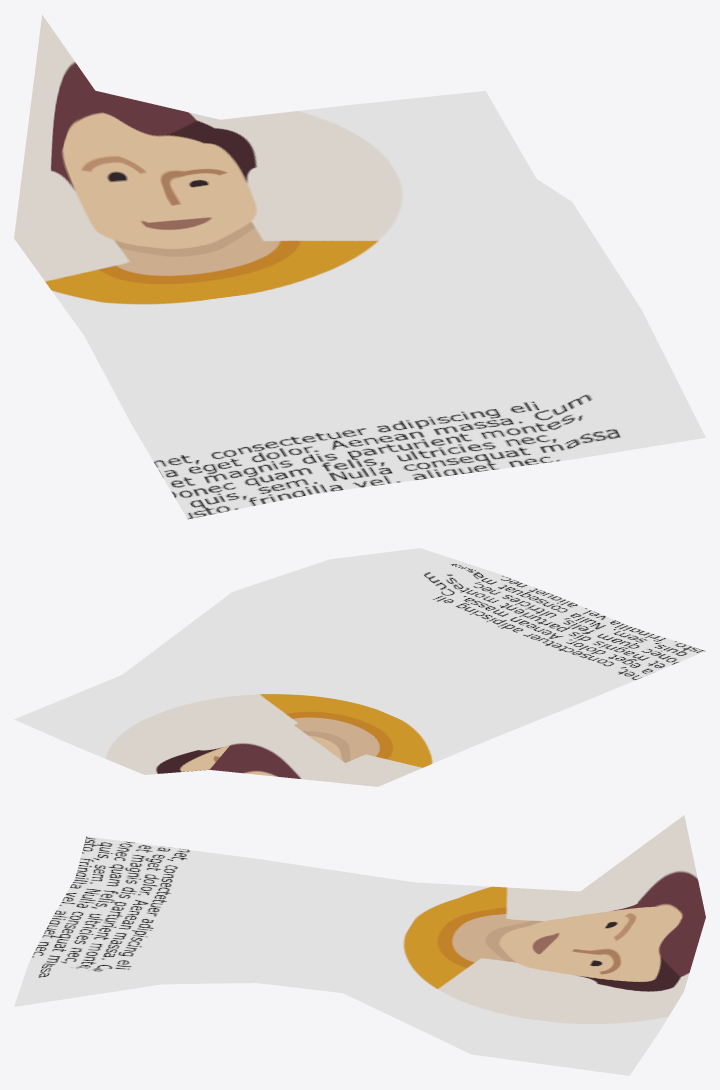
The picture shows the model from 3 angles, top to bottom: view 1: azimuth 30°, elevation 25°; view 2: azimuth 150°, elevation 25°; view 3: azimuth 270°, elevation 25°; orthographic projection. The views are drawn at different scales.
Parts seen in each view (by area): view 1: Plane.026; view 2: Plane.026; view 3: Plane.026.
Part boxes in pixels (x1,y1,x2,y2): Plane.026: (14,15,705,519); Plane.026: (14,548,705,786); Plane.026: (14,815,705,1075).
Bounding box in the file's own units: 0.7823 × 0.1776 × 0.9464.
Materials: 1 (1 with a texture image).
